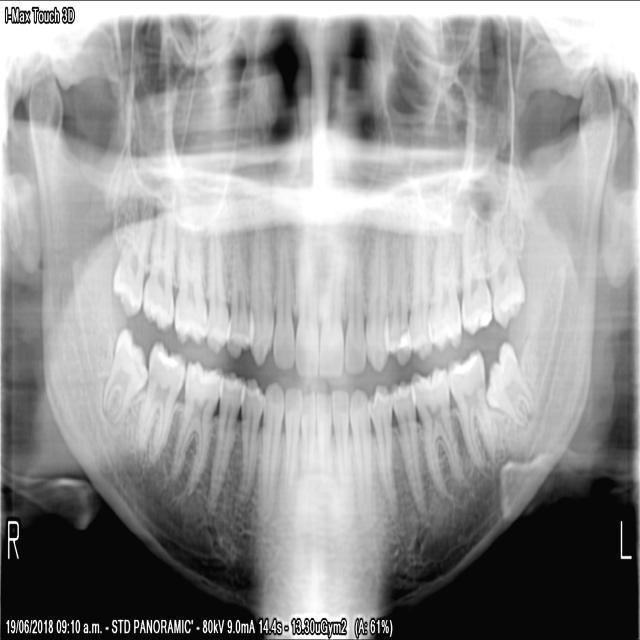LCD: (347, 386, 371, 531)
LCU: (362, 221, 389, 376)
LID: (314, 385, 333, 508), (329, 386, 348, 502)
LIU: (317, 232, 343, 375), (342, 225, 365, 375)
LMD: (407, 362, 466, 498), (444, 344, 493, 474), (483, 337, 534, 426)
LMU: (424, 209, 462, 355), (485, 208, 527, 331), (458, 203, 492, 340)
LPMD: (388, 375, 424, 519), (364, 379, 398, 525)
LPMU: (398, 220, 433, 361), (381, 222, 411, 368)
RCD: (259, 377, 283, 511)
RCU: (246, 214, 273, 365)
RID: (281, 383, 303, 492), (297, 388, 315, 496)
RIU: (292, 233, 319, 375), (270, 231, 294, 370)
RMD: (165, 358, 224, 497), (135, 334, 185, 463), (101, 320, 147, 426)
RPMD: (206, 367, 246, 505), (235, 374, 266, 502)
RPMU: (139, 203, 176, 333), (172, 226, 207, 346), (201, 221, 230, 355), (225, 231, 253, 357), (109, 234, 142, 316)
